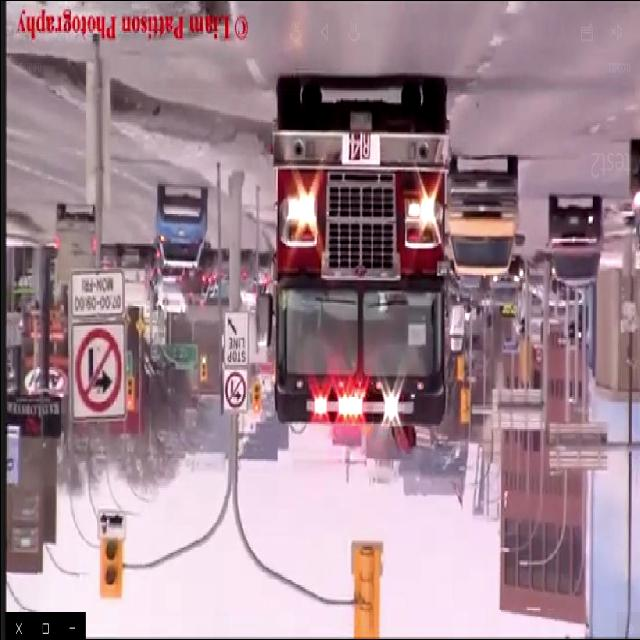emergency: (253, 64, 465, 438)
